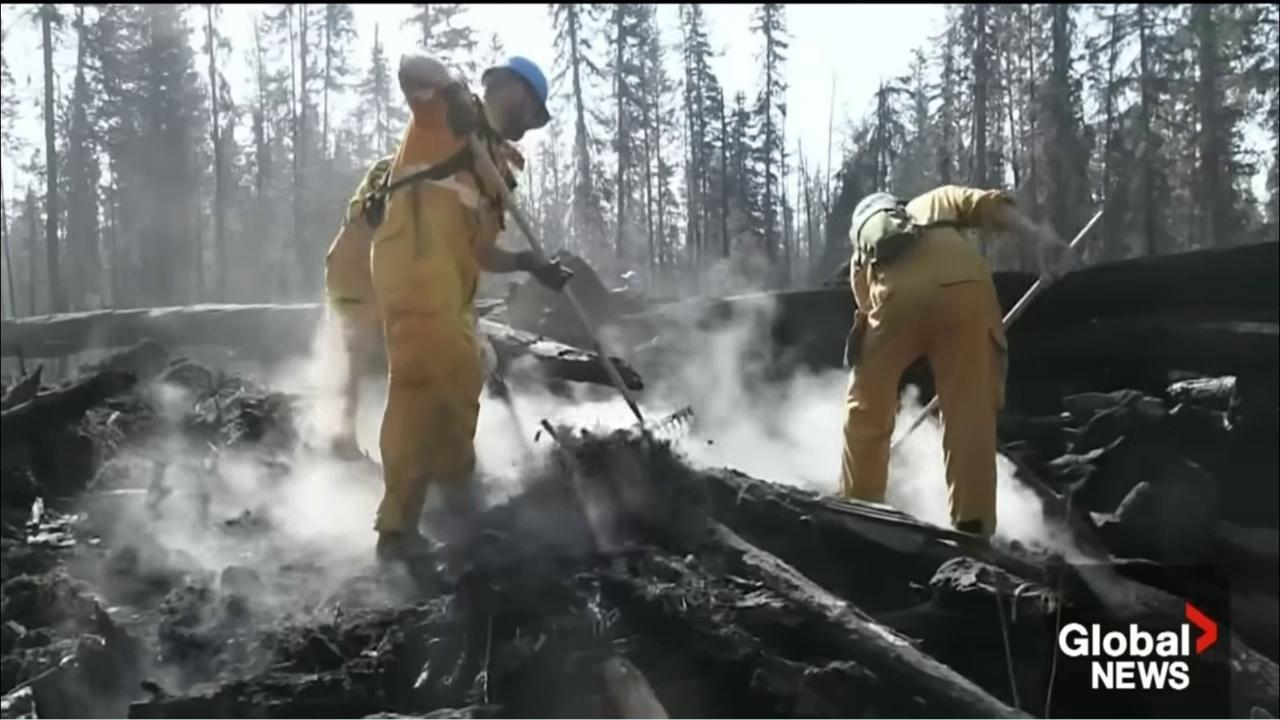smoke: (34, 234, 1100, 719)
